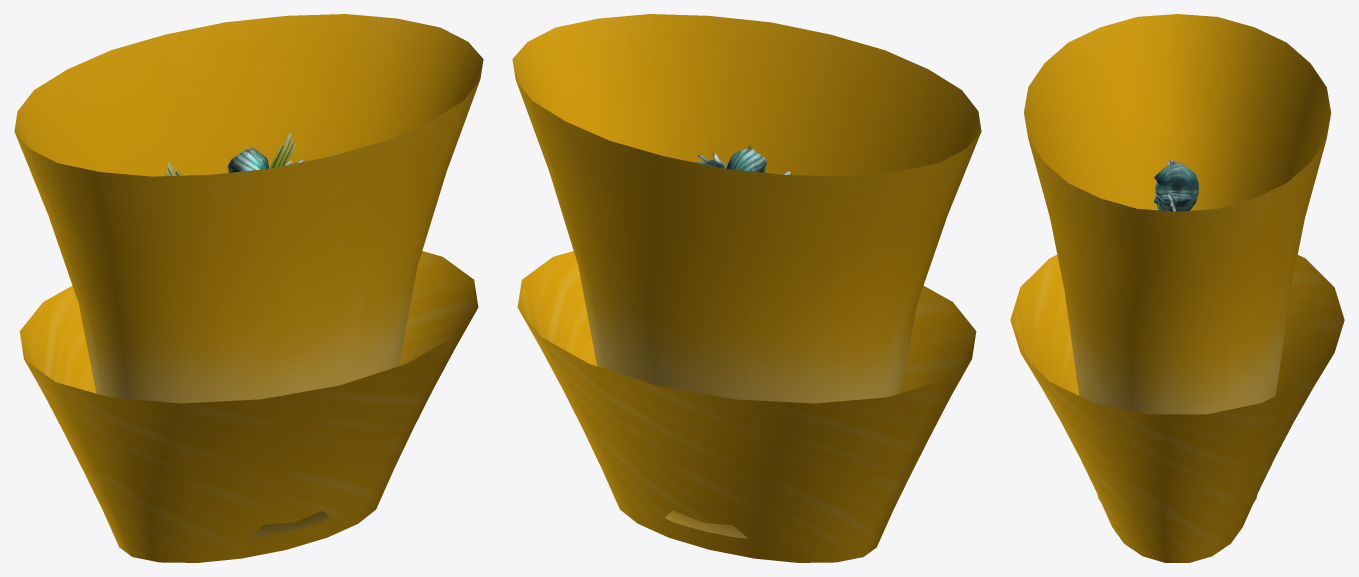
File: Opal Idol.fbx
3 views of the same model, side by side, from view 1: azimuth 30°, elevation 25°; view 2: azimuth 150°, elevation 25°; view 3: azimuth 270°, elevation 25° (orthographic). The views are drawn at different scales.
Visible parts, largest first — view 1: Top Effect, Bottom Effect, Body; view 2: Top Effect, Bottom Effect, Body; view 3: Top Effect, Bottom Effect, Body.
Part boxes in pixels (bbox=[...]): Top Effect: bbox=[14, 14, 483, 538]; Bottom Effect: bbox=[19, 251, 478, 562]; Body: bbox=[165, 133, 336, 176]; Top Effect: bbox=[512, 14, 981, 538]; Bottom Effect: bbox=[517, 251, 976, 562]; Body: bbox=[696, 146, 791, 174]; Top Effect: bbox=[1024, 14, 1331, 501]; Bottom Effect: bbox=[1010, 255, 1344, 562]; Body: bbox=[1154, 159, 1198, 211].
Bounding box in the file's own units: 1782 × 1663 × 1273.
3 materials, 3 textured.
